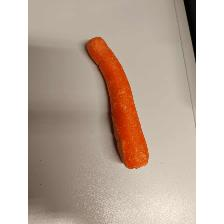Karotte: (86, 36, 150, 170)
